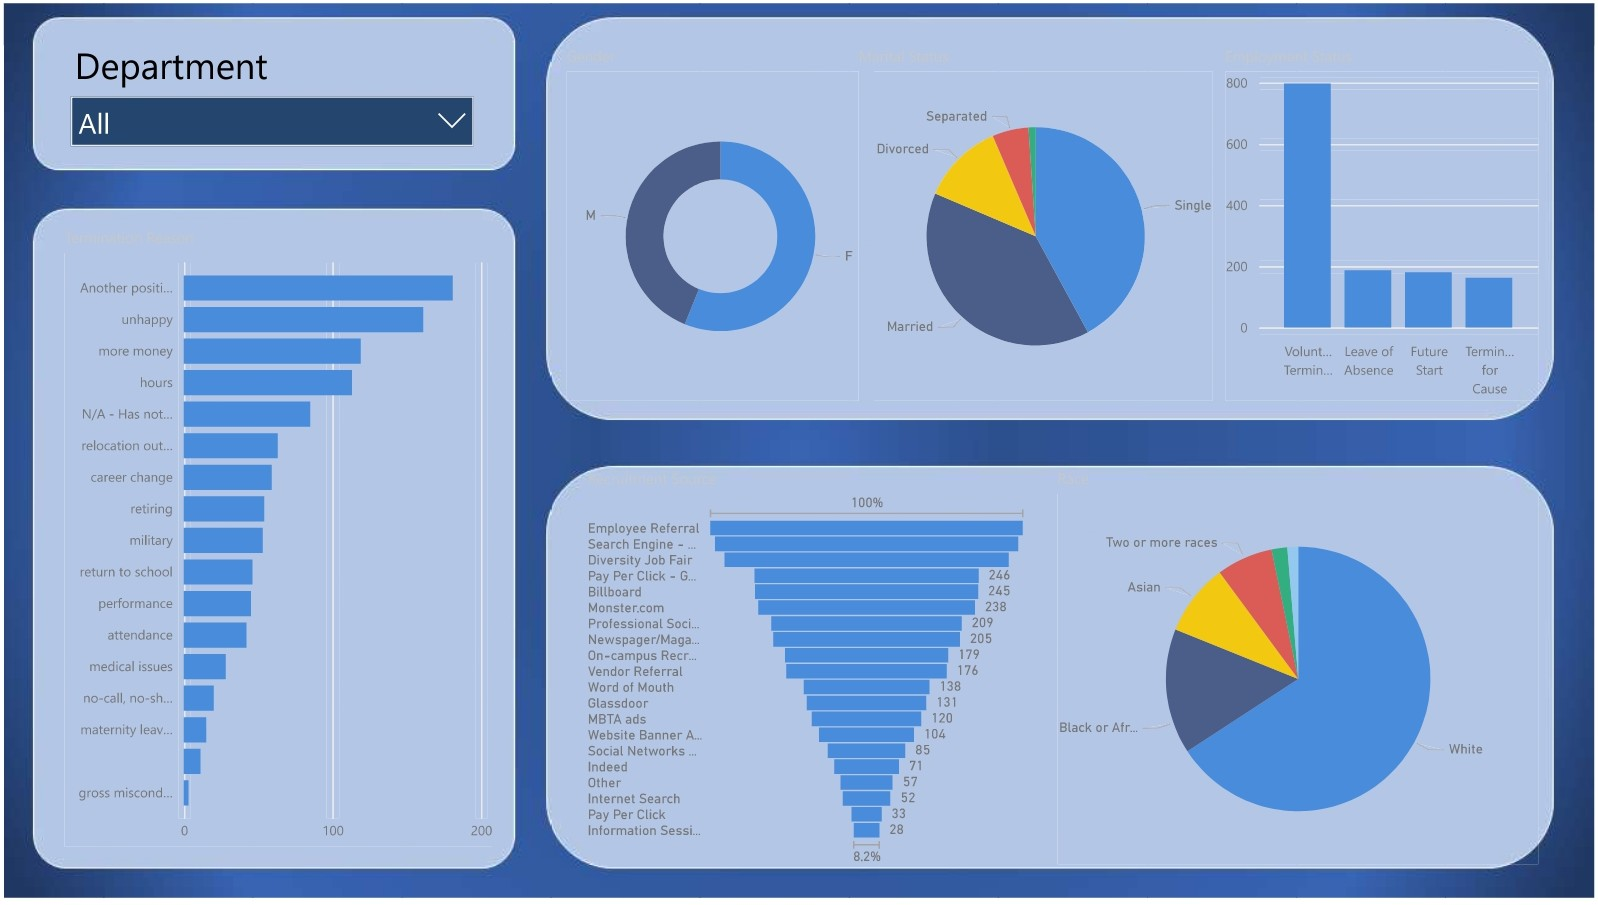

Layout of this report page (visuals, bound fields, positions):
{"tool":"powerbi","page":{"name":"Page 1","canvas":[1280,720],"ordinal":0},"visuals":[{"type":"slicer","fields":{"Values":["HR_Data.Department"]},"box":[44.3,24.2,343.7,93.7],"z":0},{"type":"donutChart","title":"Gender","fields":{"Category":["HR_Data.Sex"],"Y":["CountNonNull(HR_Data.EmpID)"]},"box":[447.5,33.8,257.5,291.2],"z":1000},{"type":"pieChart","title":"Marital Status","fields":{"Category":["HR_Data.MaritalDesc"],"Y":["CountNonNull(HR_Data.EmpID)"]},"box":[682.5,33.8,295,291.2],"z":2000},{"type":"clusteredColumnChart","title":"Employment Status","fields":{"Category":["HR_Data.EmploymentStatus"],"Y":["CountNonNull(HR_Data.EmpID)"]},"box":[977.5,33.8,262.5,291.2],"z":3000},{"type":"barChart","title":"Termination Reason","fields":{"Category":["HR_Data.TermReason"],"Y":["CountNonNull(HR_Data.EmpID)"]},"box":[43.8,180,353.8,503.8],"z":4000},{"type":"pieChart","title":"Race","fields":{"Category":["HR_Data.RaceDesc"],"Y":["CountNonNull(HR_Data.EmpID)"]},"box":[842.5,373.8,397.5,323.8],"z":5000},{"type":"funnel","title":"Recruitment Source","fields":{"Category":["HR_Data.RecruitmentSource"],"Y":["CountNonNull(HR_Data.EmpID)"]},"box":[465,373.8,365,323.8],"z":6000}]}

Visuals, with their boxes in screenshot pixels (x1, y1, x2, y2), scaled from the page's 1280x720 canvas onto the 1598x905 screenshot:
slicer - HR_Data.Department: detection(55, 30, 484, 148)
"Gender" donutChart: detection(559, 42, 880, 409)
"Marital Status" pieChart: detection(852, 42, 1220, 409)
"Employment Status" clusteredColumnChart: detection(1220, 42, 1548, 409)
"Termination Reason" barChart: detection(55, 226, 496, 859)
"Race" pieChart: detection(1052, 470, 1548, 877)
"Recruitment Source" funnel: detection(581, 470, 1036, 877)
